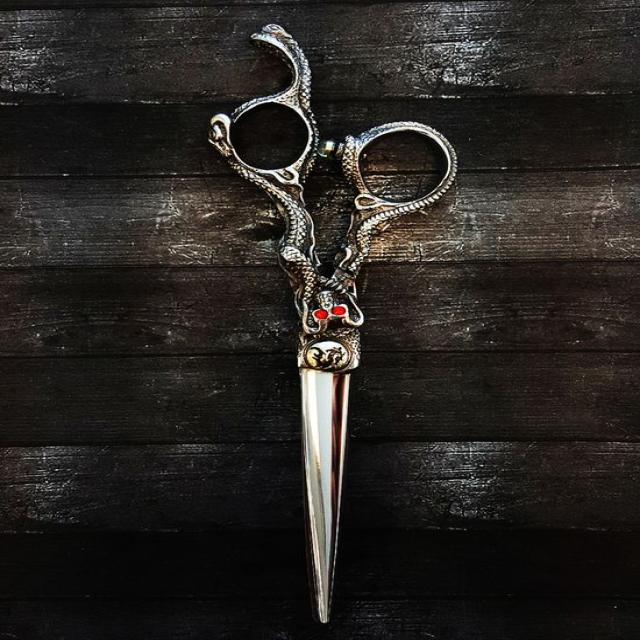scissor: (181, 18, 472, 637)
